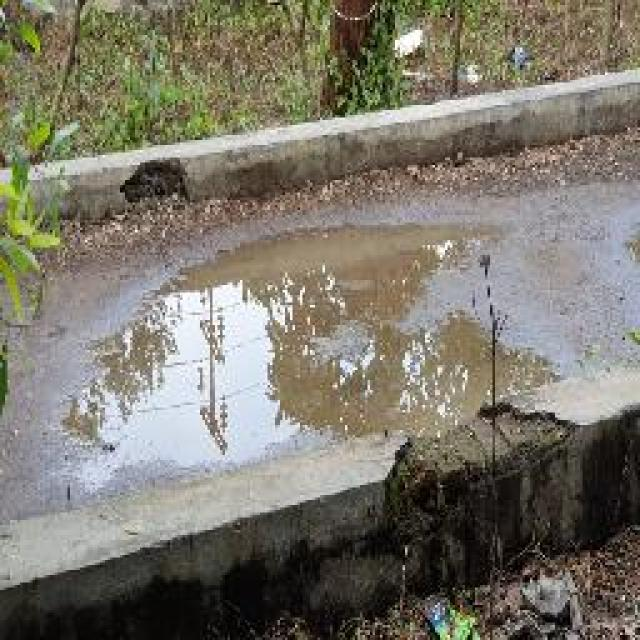puddle: (60, 221, 568, 497)
